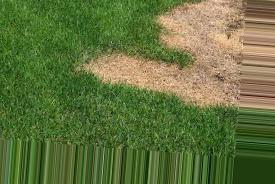patch: (173, 11, 233, 52), (110, 61, 200, 87), (196, 55, 235, 104)
